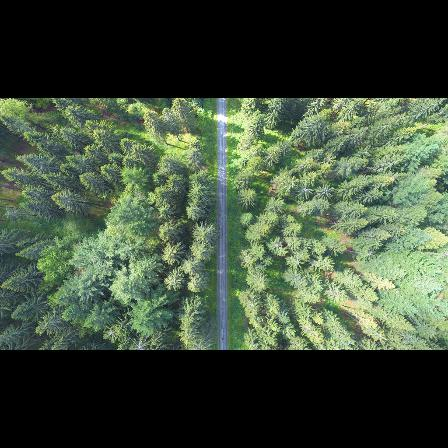Sick: (102, 323, 125, 341), (130, 336, 150, 350), (323, 152, 337, 166), (297, 184, 312, 197), (321, 183, 332, 197)
